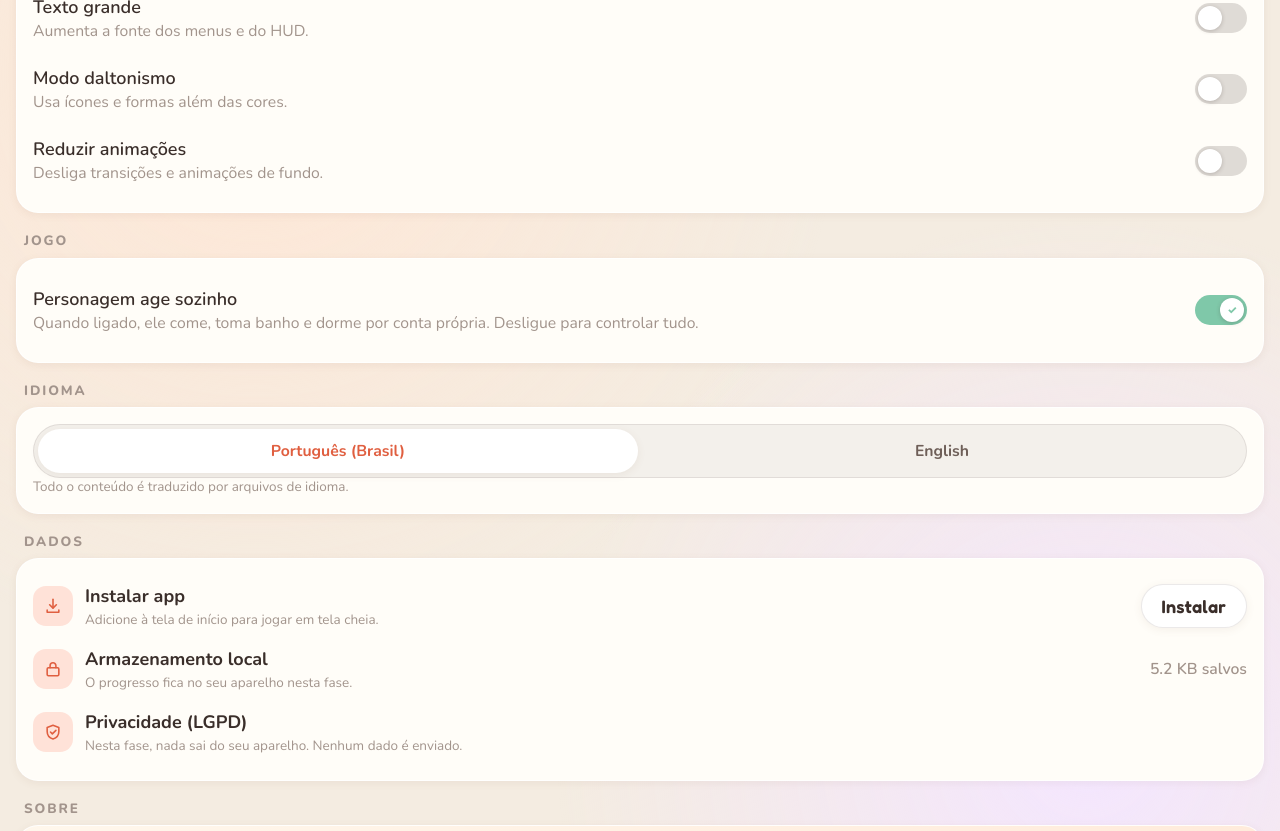
Scenario: SettingsScreen › switches language and translates the interface immediately
(page scrolled)
Step 1. Click the radio button labelled "English" → (942, 451), box [642,429,1242,473]
(page scrolled)
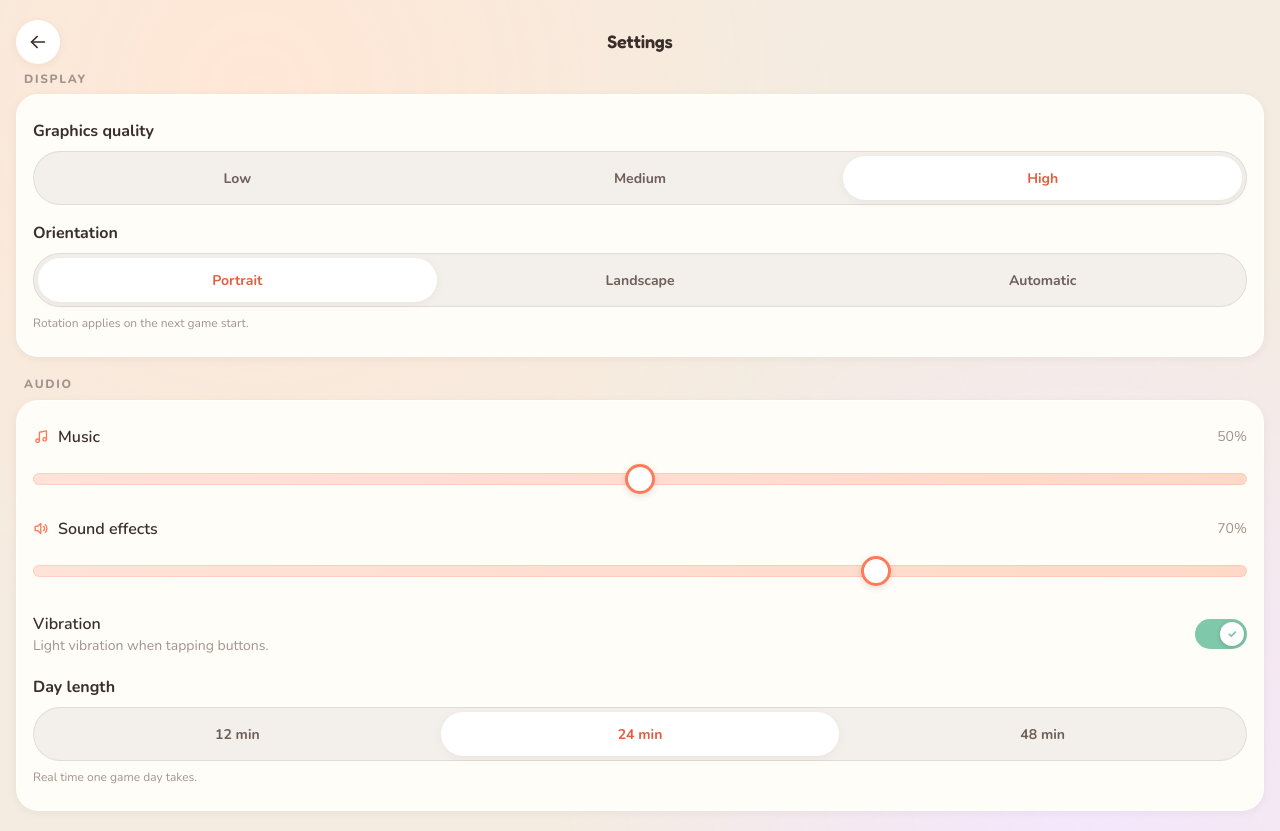
Now the heading "Settings" is shown, box [607,30,673,52]
